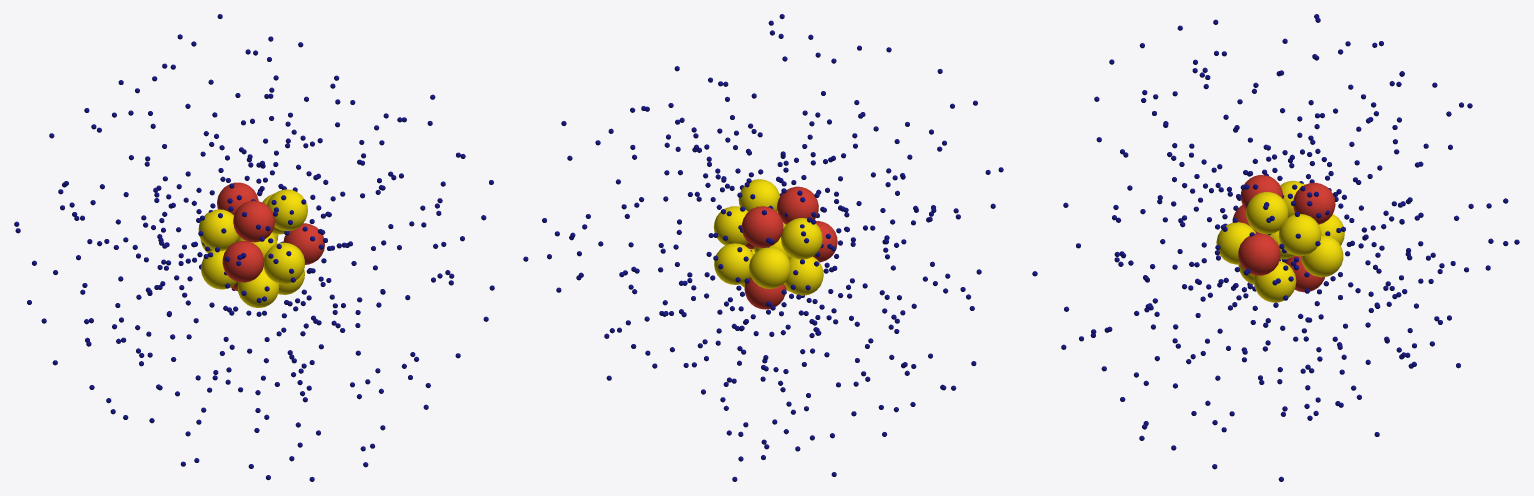
File: atom-mekakuantum.glb
3 renders of one model, left to right at view 1: azimuth 30°, elevation 25°; view 2: azimuth 150°, elevation 25°; view 3: azimuth 270°, elevation 25°, orthographic.
Parts seen in each view (by area): view 1: Atom Rutherford.045; view 2: Atom Rutherford.045; view 3: Atom Rutherford.045.
Boxes of the visible parts, x1,y1,x2,y2 form: Atom Rutherford.045: (14, 14, 494, 481); Atom Rutherford.045: (523, 14, 1003, 481); Atom Rutherford.045: (1032, 14, 1519, 481).
Bounding box in the file's own units: 1.99 × 1.93 × 2.
